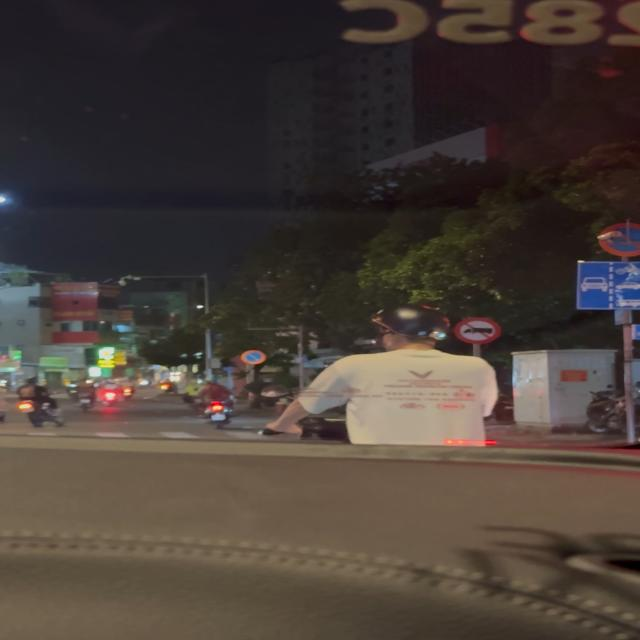Bien bao cam xe so-mi ro-mooc: (449, 316, 503, 344)
